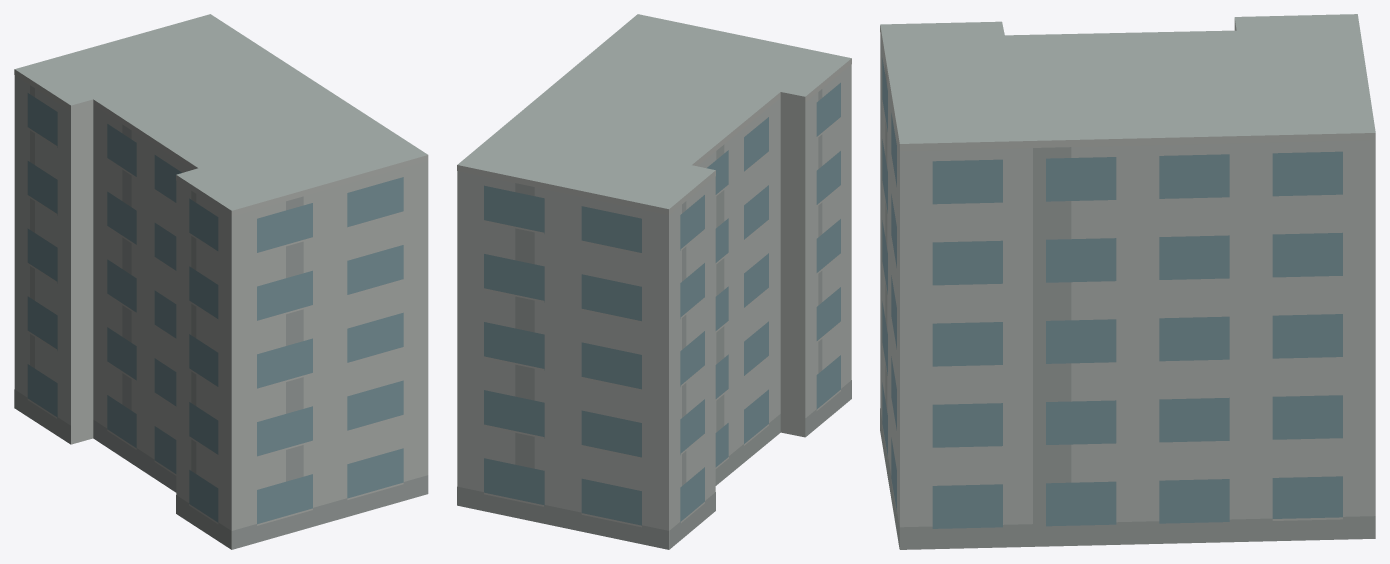
File: survey-upis-32702530.glb
3 views of the same model, side by side, from view 1: azimuth 30°, elevation 25°; view 2: azimuth 150°, elevation 25°; view 3: azimuth 270°, elevation 25° (orthographic). The views are drawn at different scales.
Parts seen in each view (by area): view 1: survey-upis-32702530.tmp; view 2: survey-upis-32702530.tmp; view 3: survey-upis-32702530.tmp.
Boxes of the visible parts, bbox=[...] form: survey-upis-32702530.tmp: bbox=[14, 14, 428, 549]; survey-upis-32702530.tmp: bbox=[457, 14, 851, 549]; survey-upis-32702530.tmp: bbox=[880, 14, 1375, 549].
Bounding box in the file's own units: 9.56 × 13.9 × 15.39.
